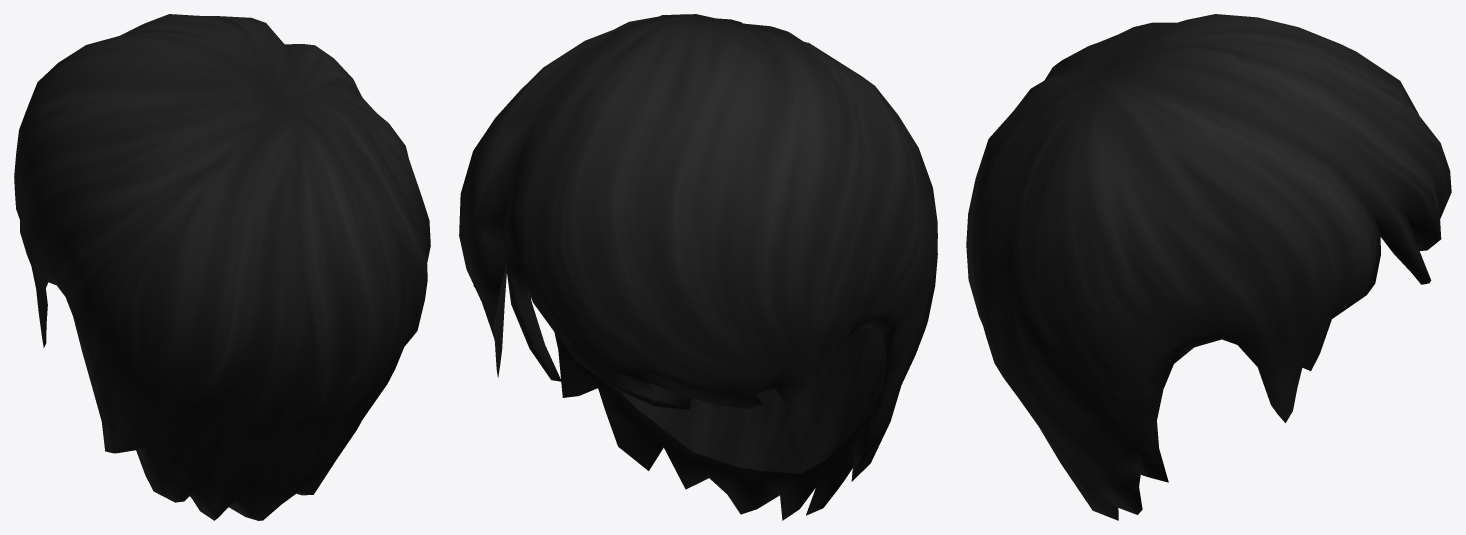
Rendered from Hair_Male_004_textured_black.glb.
The picture shows the model from 3 angles, left to right: view 1: azimuth 30°, elevation 25°; view 2: azimuth 150°, elevation 25°; view 3: azimuth 270°, elevation 25°; orthographic projection. The views are drawn at different scales.
Visible parts, largest first — view 1: Hair_Male_004; view 2: Hair_Male_004; view 3: Hair_Male_004.
Boxes of the visible parts, x1,y1,x2,y2 form: Hair_Male_004: (14,14,430,520); Hair_Male_004: (459,14,937,520); Hair_Male_004: (966,14,1451,520).
Size of the model in its own units: 0.189 by 0.2477 by 0.2273.
1 material, 1 textured.
